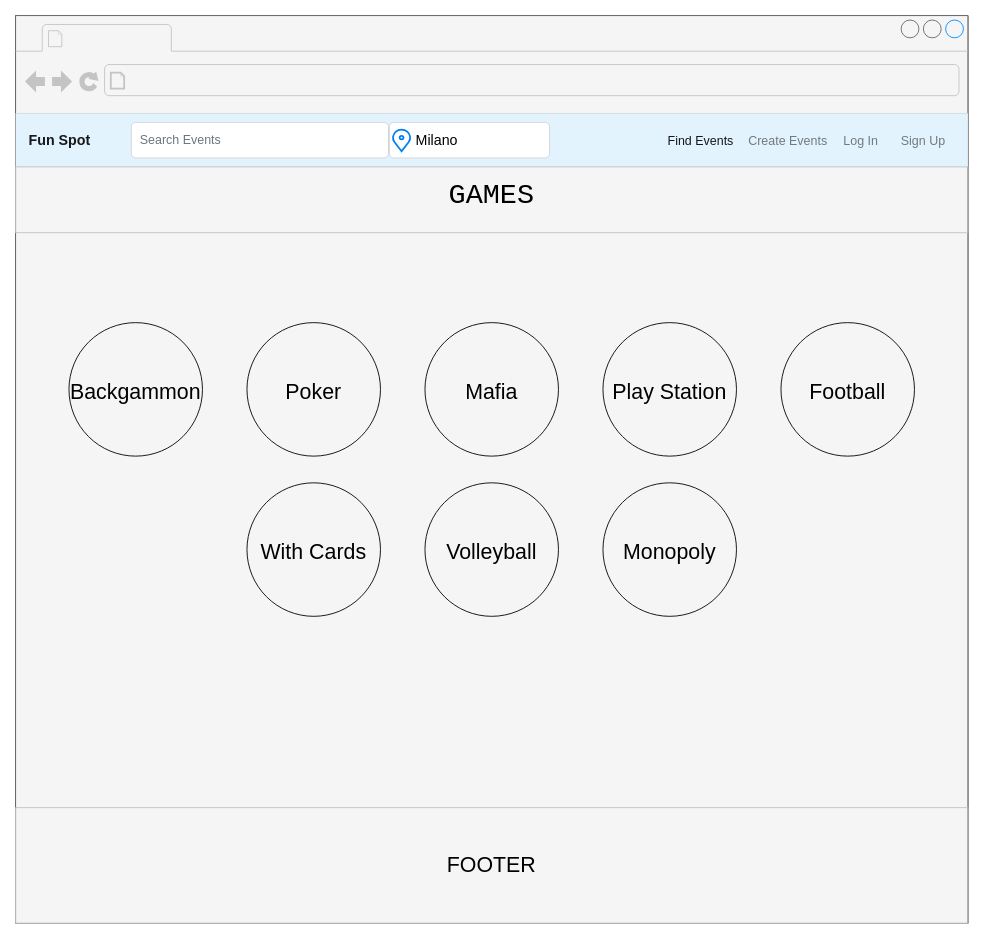
Some shapes in this 983 by 939 pixel diagram are drawn without their labels. The shapes that lost their labels are listed below. From the top down, each one's centre as x and y in pixels, then its label:
At (x=117, y=37): "Gamges".
At (x=242, y=80): "www.FUNSPOT.com".
